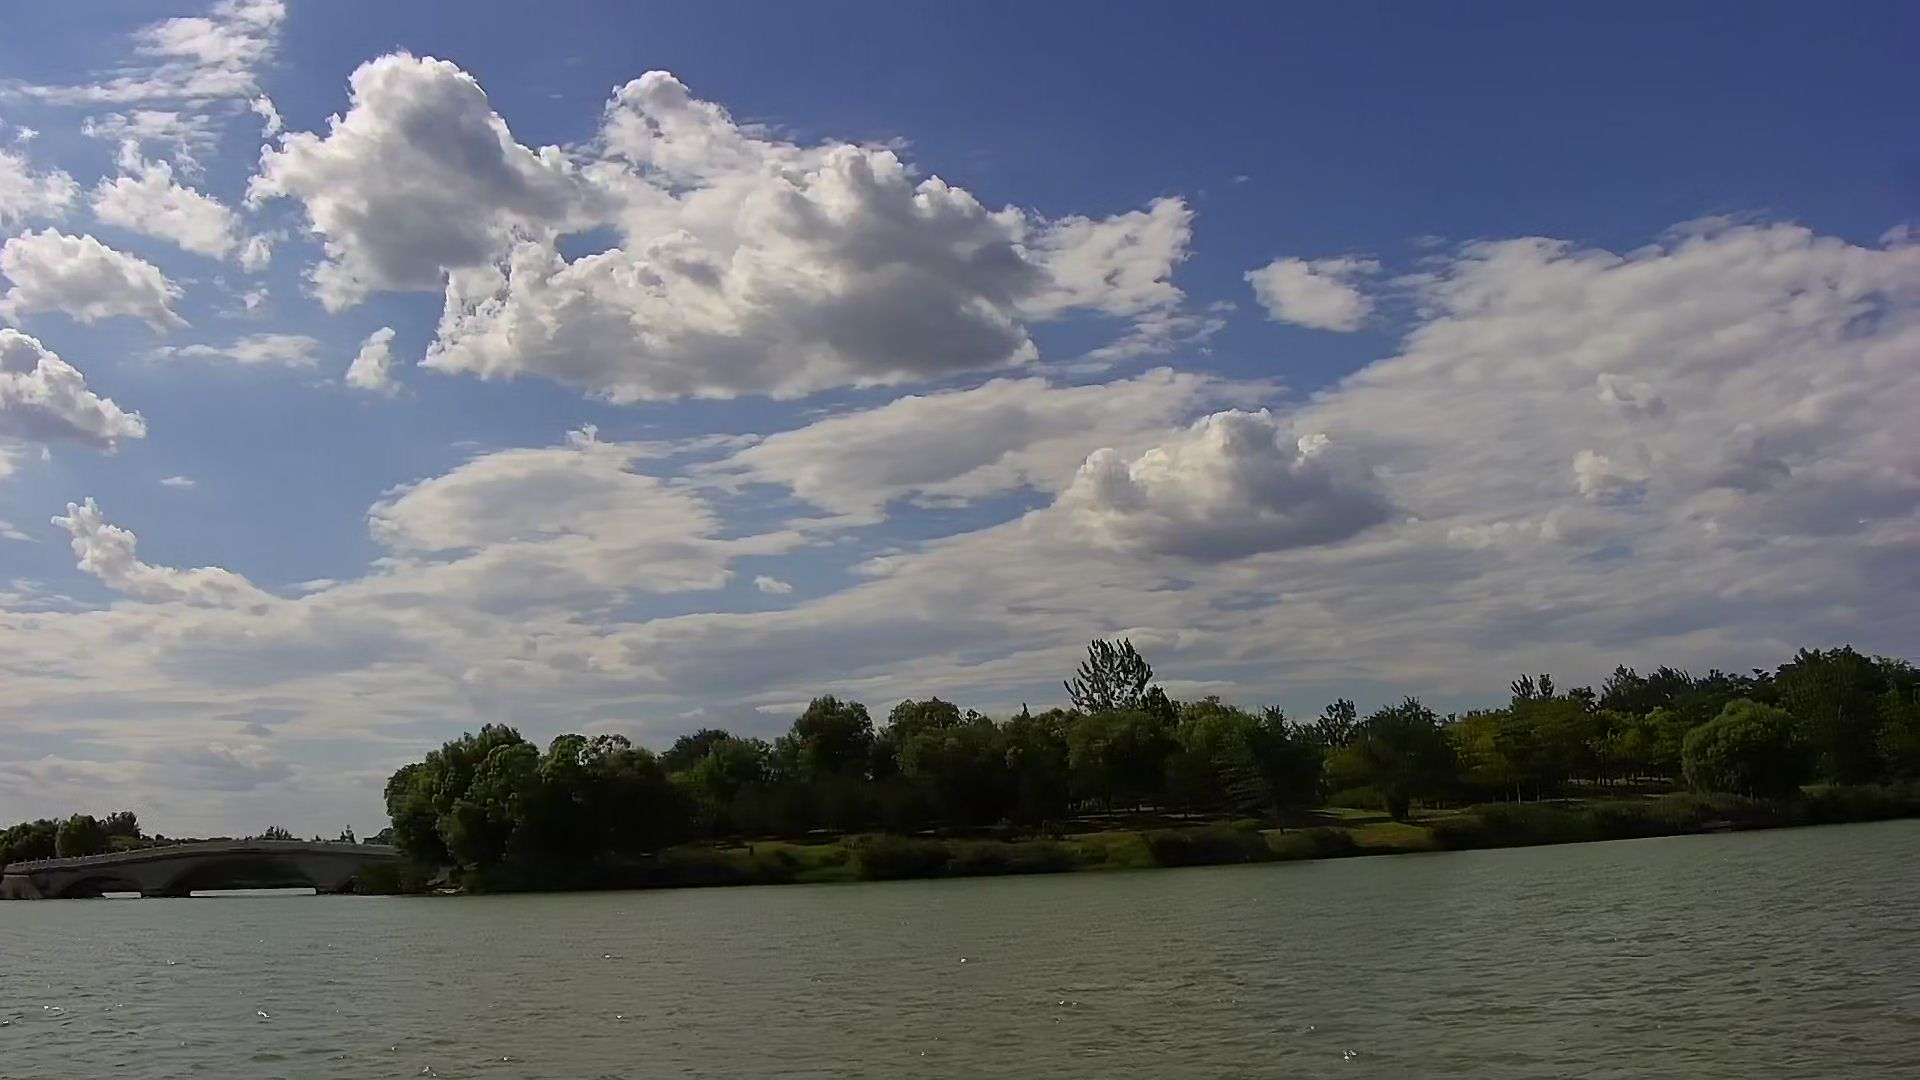bridge: (42, 840, 382, 901)
